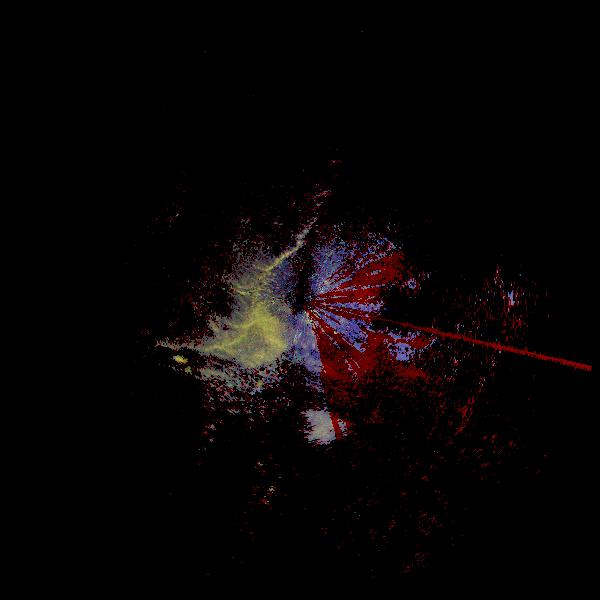roost: (173, 356, 185, 368)
